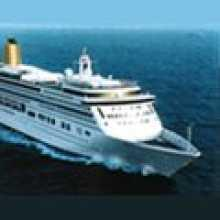youlun: (1, 37, 206, 177)
